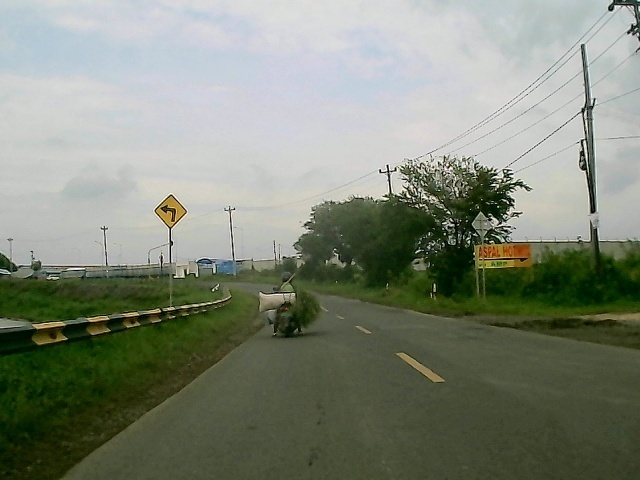Tikungan tajam ke kiri: (153, 193, 189, 229)
